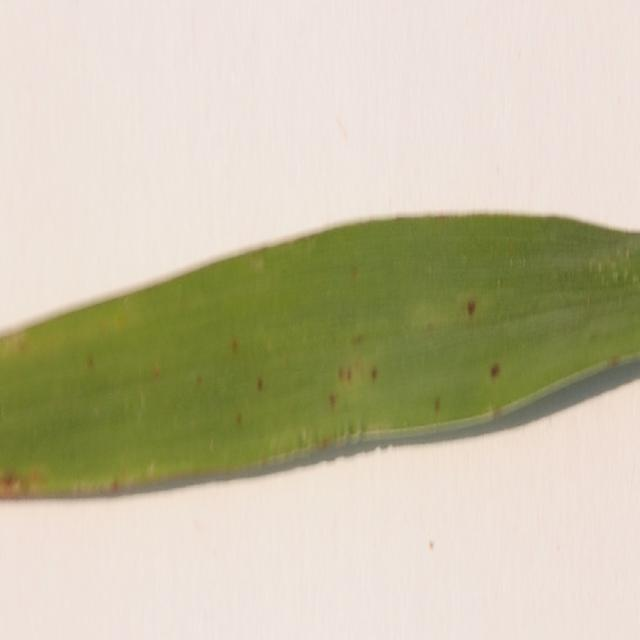Leafsmut: (0, 471, 16, 489), (250, 255, 266, 272), (18, 478, 32, 494), (11, 476, 23, 493), (429, 213, 455, 220), (466, 300, 477, 316), (374, 444, 388, 456), (86, 354, 96, 370), (350, 334, 364, 345), (299, 427, 308, 444), (490, 364, 500, 379), (487, 402, 497, 417), (347, 421, 356, 437), (146, 462, 156, 476), (359, 417, 367, 434), (18, 340, 29, 352), (494, 405, 504, 418), (433, 397, 441, 413), (350, 266, 359, 280), (231, 339, 239, 354), (256, 377, 264, 391), (329, 395, 337, 409), (595, 260, 603, 274), (152, 368, 161, 380), (112, 480, 121, 492), (371, 367, 378, 382), (343, 368, 351, 381), (338, 368, 346, 381), (153, 361, 161, 374), (612, 356, 622, 366), (426, 322, 436, 332), (258, 455, 266, 467), (235, 413, 242, 426), (320, 438, 329, 448), (196, 376, 203, 386)
